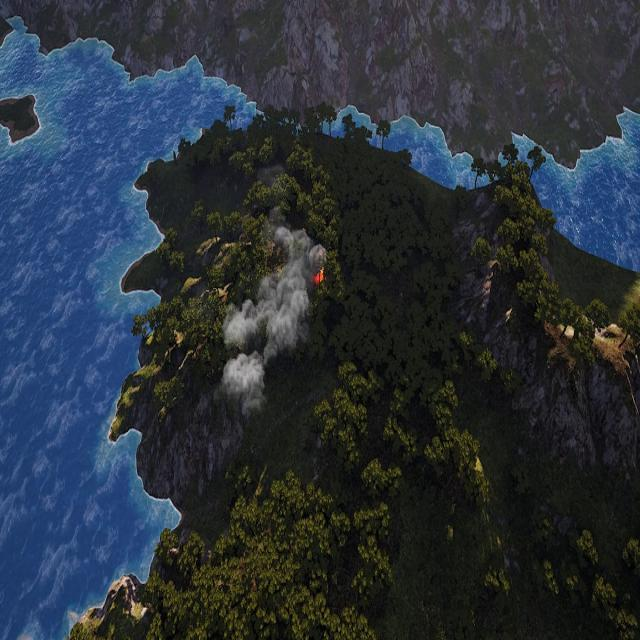fire: (314, 269, 326, 286)
smoke: (216, 208, 324, 415)
